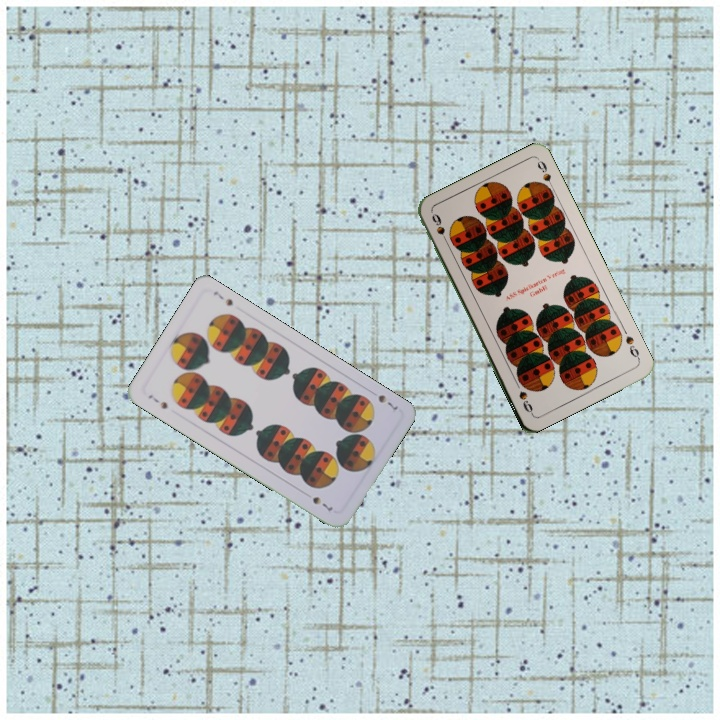S7: (374, 391, 400, 415), (144, 391, 170, 412)
S9: (428, 209, 452, 248), (621, 331, 643, 363)
